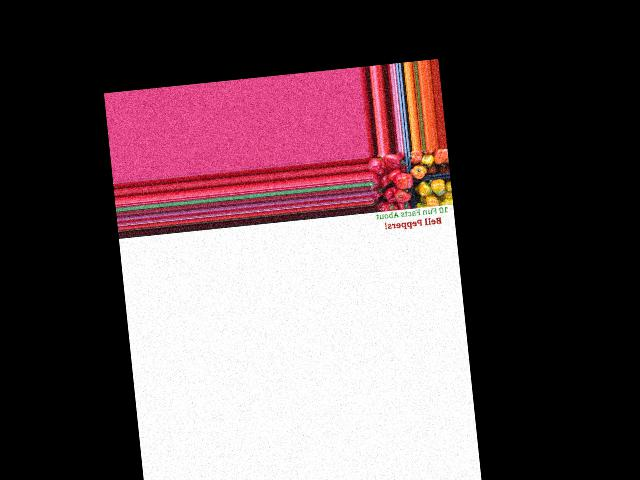bell_pepper: (379, 198, 402, 214)
